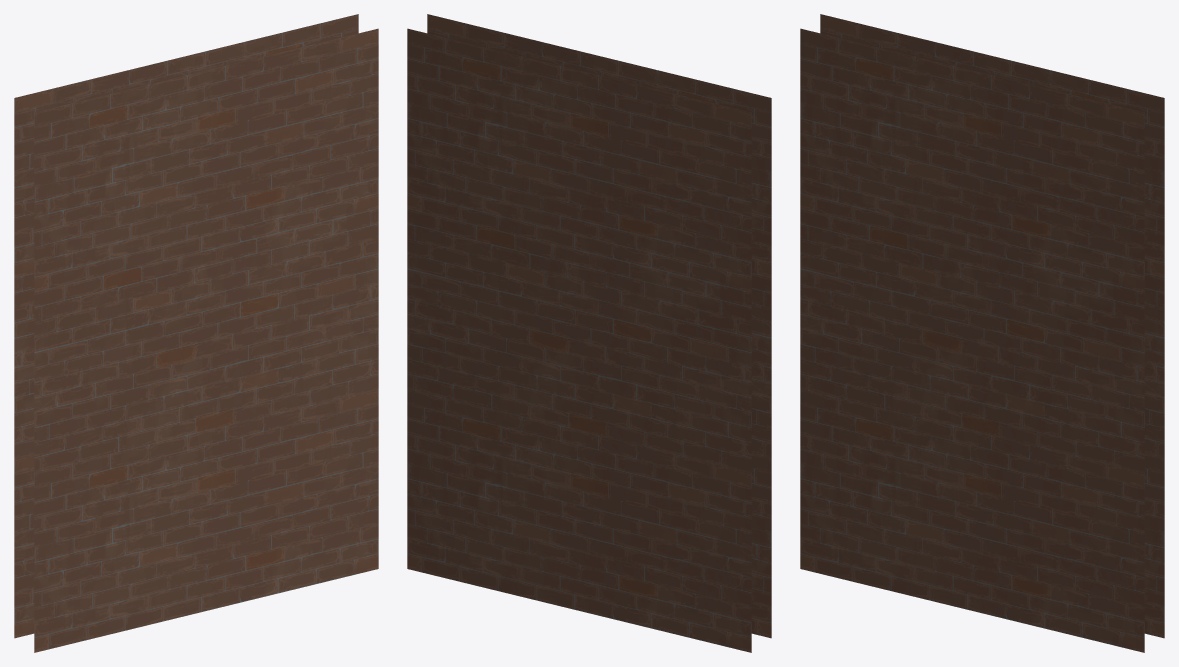
Rendered from Brick_Plain_3_noWear.gltf.
The picture shows the model from 3 angles, left to right: view 1: azimuth 30°, elevation 25°; view 2: azimuth 150°, elevation 25°; view 3: azimuth 330°, elevation 25°; orthographic projection.
Parts seen in each view (by area): view 1: Brick_Plain_3_noWear; view 2: Brick_Plain_3_noWear; view 3: Brick_Plain_3_noWear.
Part boxes in pixels (x1,y1,x2,y2): Brick_Plain_3_noWear: (14, 14, 378, 652); Brick_Plain_3_noWear: (407, 14, 771, 652); Brick_Plain_3_noWear: (800, 14, 1164, 652).
Size of the model in its own units: 2 by 3 by 0.2.
2 materials, 2 textured.
